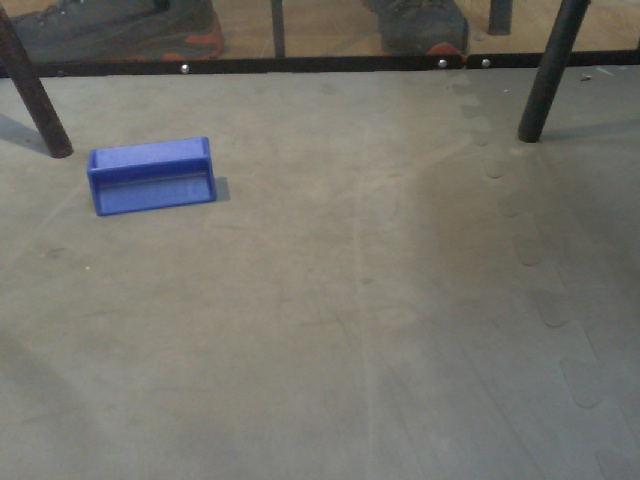BlueSample: (85, 134, 223, 216)
